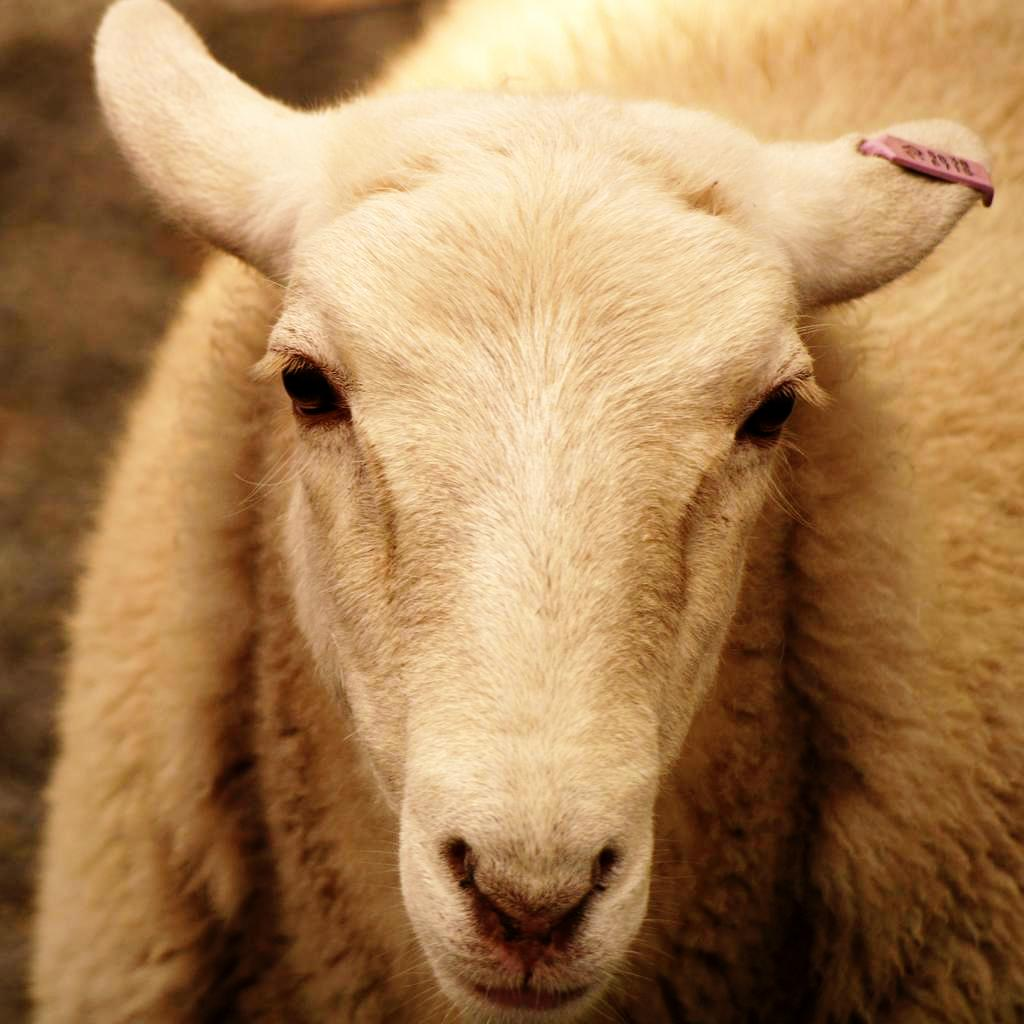Sheep: (26, 0, 1024, 1024)
